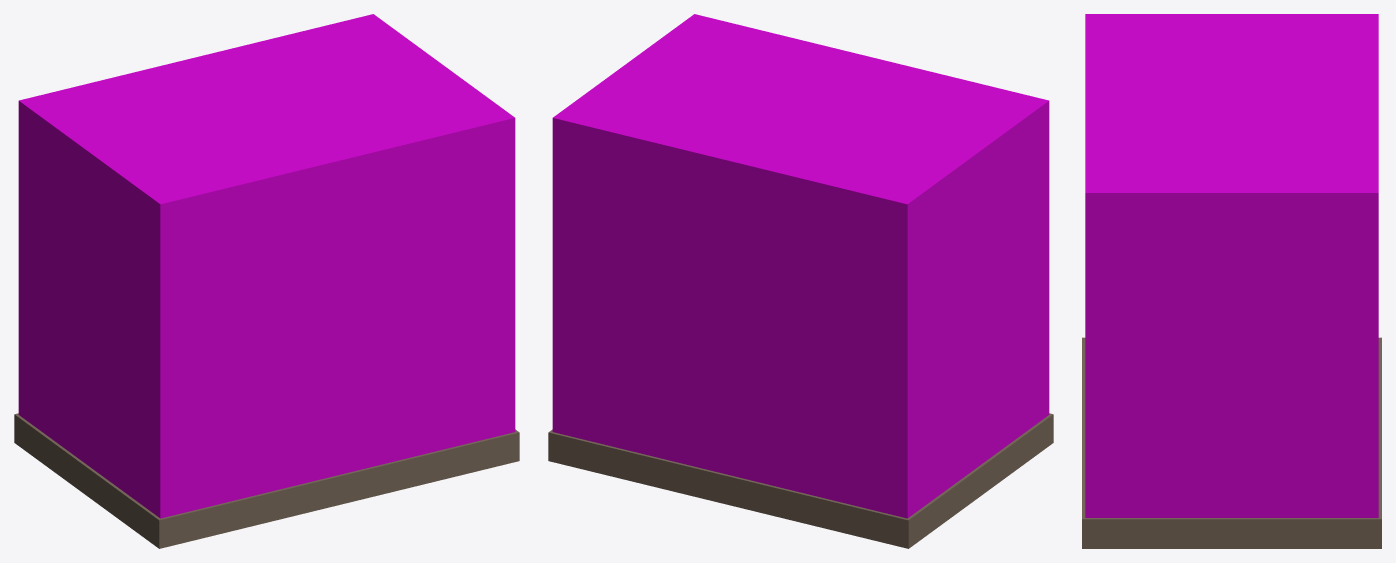
File: PRP_Contribution_Chest_A.glb
3 renders of one model, left to right at view 1: azimuth 30°, elevation 25°; view 2: azimuth 150°, elevation 25°; view 3: azimuth 270°, elevation 25°, orthographic. The views are drawn at different scales.
Parts seen in each view (by area): view 1: COL_Chest, PRP_Contribution_Chest_A_Mesh; view 2: COL_Chest, PRP_Contribution_Chest_A_Mesh; view 3: COL_Chest, PRP_Contribution_Chest_A_Mesh.
Part boxes in pixels (x1=…): COL_Chest: x1=18, y1=14, x2=515, y2=518; PRP_Contribution_Chest_A_Mesh: x1=14, y1=413, x2=519, y2=548; COL_Chest: x1=552, y1=14, x2=1049, y2=518; PRP_Contribution_Chest_A_Mesh: x1=548, y1=413, x2=1053, y2=548; COL_Chest: x1=1085, y1=14, x2=1378, y2=517; PRP_Contribution_Chest_A_Mesh: x1=1082, y1=337, x2=1381, y2=548.
Bounding box in the file's own units: 1.32 × 1.2 × 0.92.
